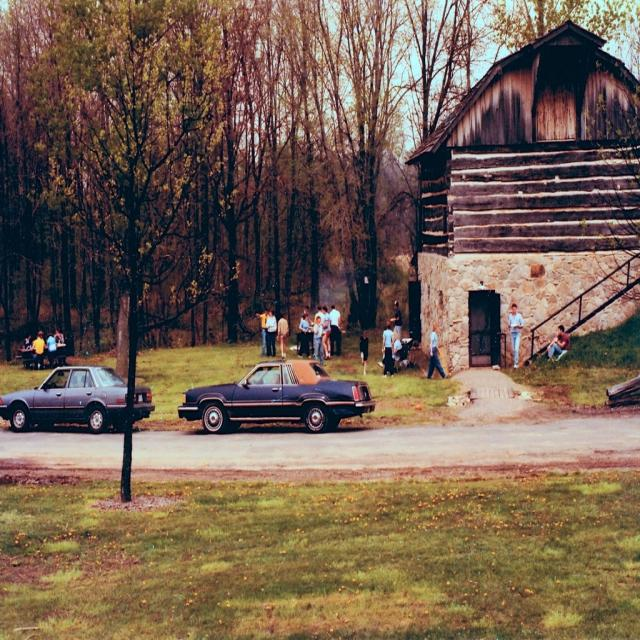car: (176, 354, 375, 430)
